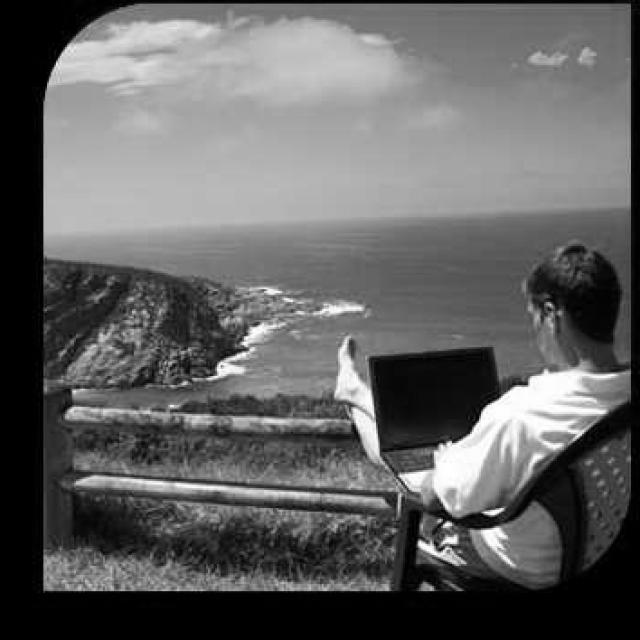laptop: (370, 349, 514, 493)
